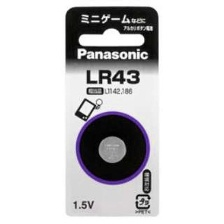battery: (92, 131, 131, 168)
book: (60, 3, 164, 219)
